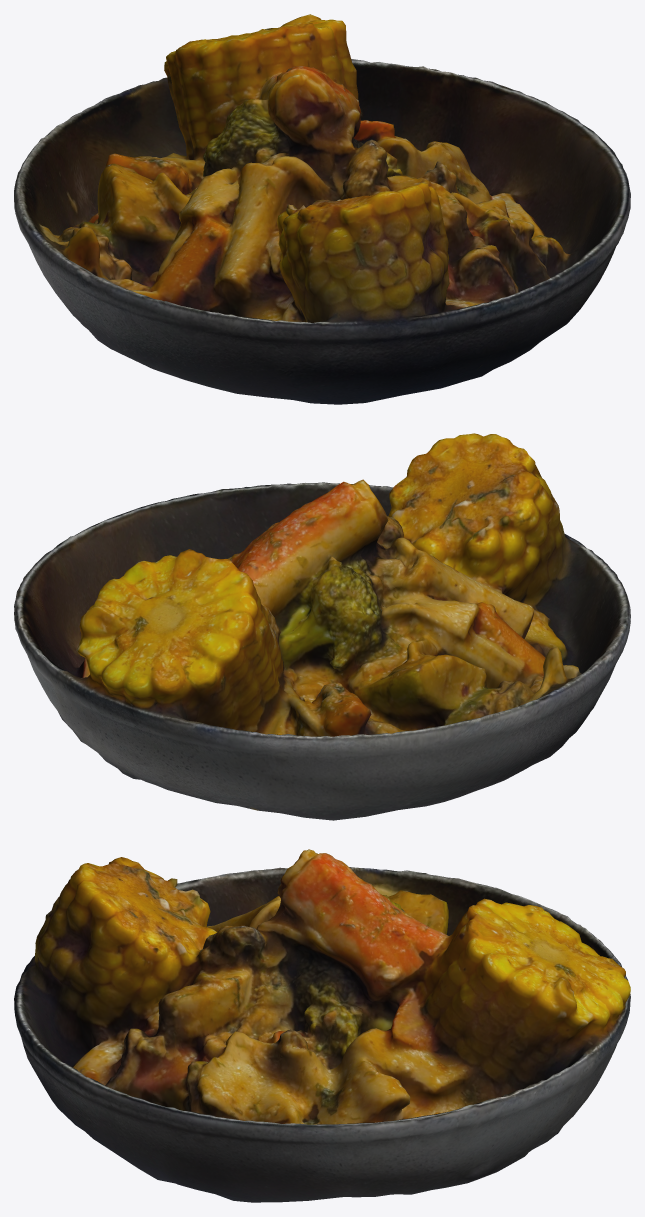
The model's file is seaFoodBowl_1752072070465.glb.
The picture shows the model from 3 angles, top to bottom: view 1: azimuth 30°, elevation 25°; view 2: azimuth 150°, elevation 25°; view 3: azimuth 270°, elevation 25°; orthographic projection.
Parts seen in each view (by area): view 1: 3DModel_Custom; view 2: 3DModel_Custom; view 3: 3DModel_Custom.
Boxes of the visible parts, box(x1,y1,x2,y2) form: 3DModel_Custom: box(14, 14, 630, 404); 3DModel_Custom: box(14, 433, 630, 820); 3DModel_Custom: box(14, 849, 630, 1202).
Bounding box in the file's own units: 0.1811 × 0.0897 × 0.181.
Materials: 1 (1 with a texture image).
